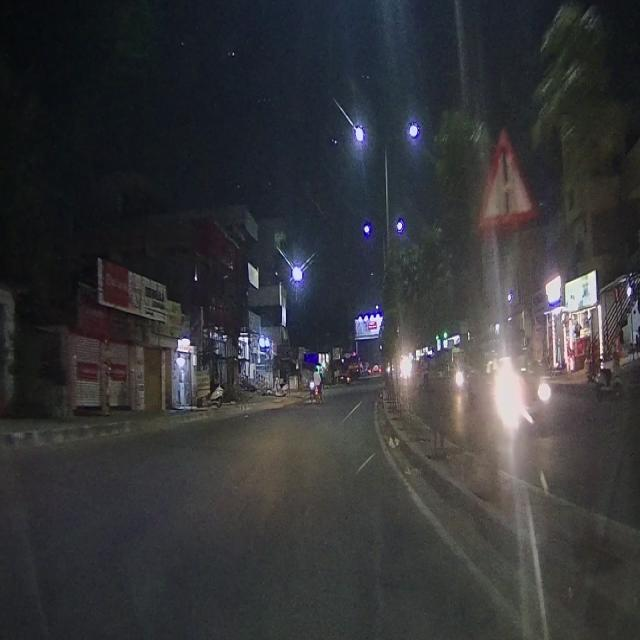gap-in-median: (480, 123, 533, 218)
